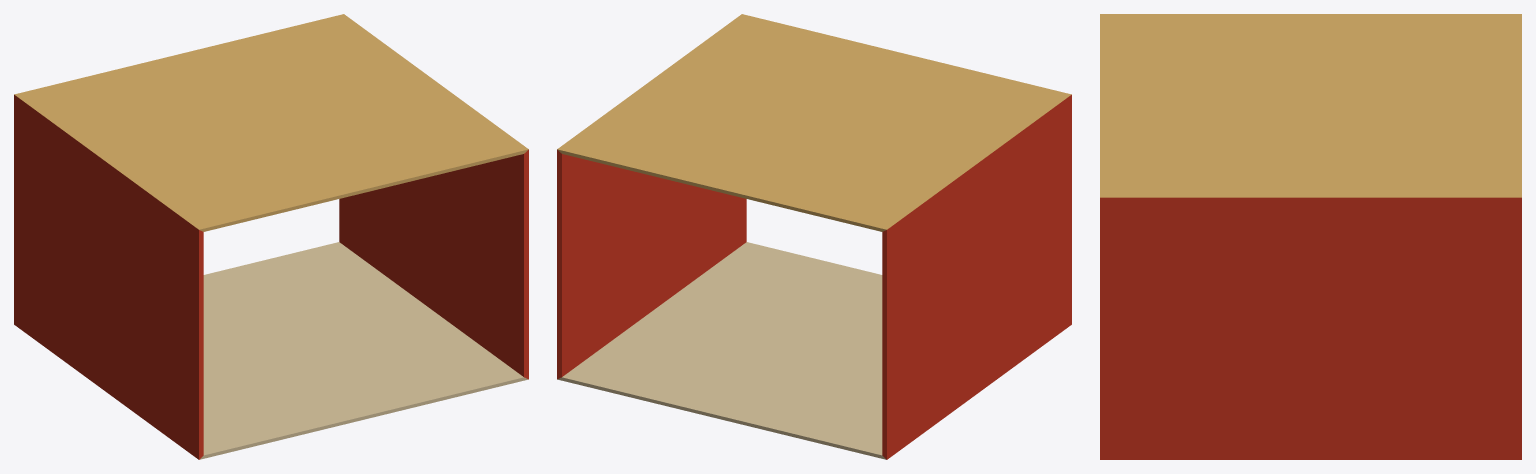
File: CorredorMenor.fbx
3 views of the same model, side by side, from view 1: azimuth 30°, elevation 25°; view 2: azimuth 150°, elevation 25°; view 3: azimuth 270°, elevation 25° (orthographic). The views are drawn at different scales.
Visible parts, largest first — view 1: Corredor3x2x3; view 2: Corredor3x2x3; view 3: Corredor3x2x3.
Boxes of the visible parts, x1,y1,x2,y2 form: Corredor3x2x3: (14, 14, 528, 459); Corredor3x2x3: (557, 14, 1071, 459); Corredor3x2x3: (1100, 14, 1521, 459).
Bounding box in the file's own units: 618 × 412 × 600.
